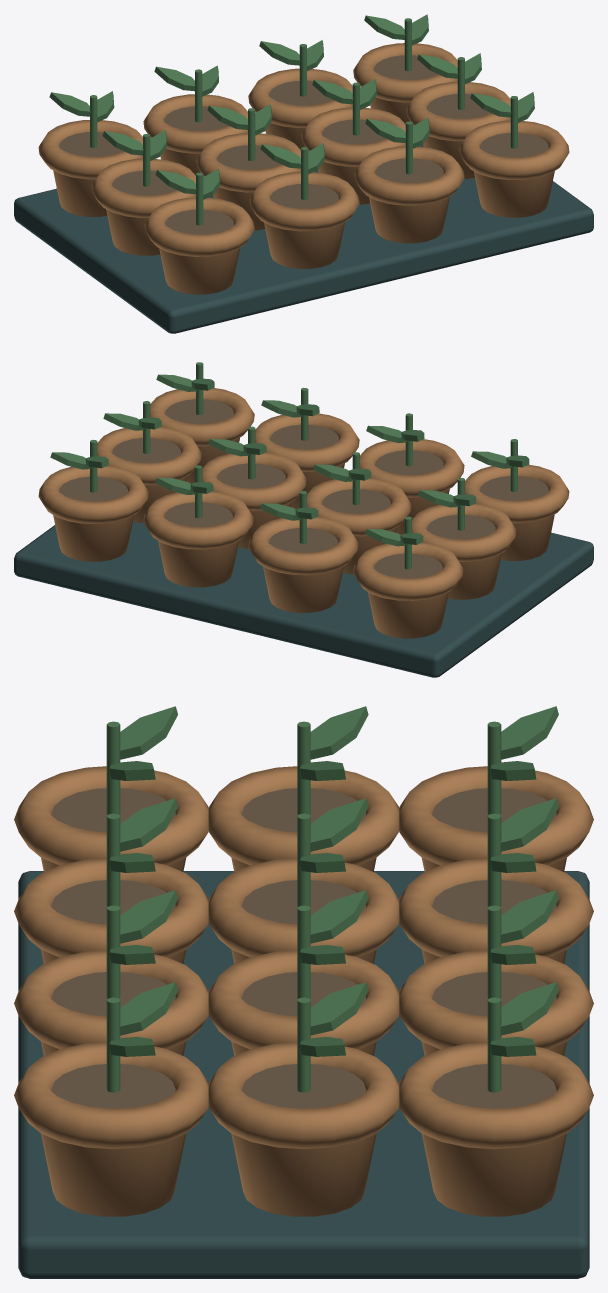
File: almanac-gardens-seedling-tray-833c71a3__22067.glb
3 views of the same model, one above another, from view 1: azimuth 30°, elevation 25°; view 2: azimuth 150°, elevation 25°; view 3: azimuth 270°, elevation 25° (orthographic). The views are drawn at different scales.
Parts seen in each view (by area): view 1: seedling-tray-oak, seedling-tray-iron, seedling-tray-leaf, seedling-tray-soil; view 2: seedling-tray-oak, seedling-tray-iron, seedling-tray-soil, seedling-tray-leaf; view 3: seedling-tray-oak, seedling-tray-iron, seedling-tray-leaf, seedling-tray-soil.
Part boxes in pixels (x1,y1,x2,y2): seedling-tray-oak: [38, 43, 569, 294]; seedling-tray-iron: [14, 144, 593, 333]; seedling-tray-leaf: [49, 14, 534, 225]; seedling-tray-soil: [59, 55, 548, 234]; seedling-tray-oak: [38, 388, 569, 638]; seedling-tray-iron: [14, 522, 593, 677]; seedling-tray-soil: [59, 399, 548, 578]; seedling-tray-leaf: [50, 362, 529, 569]; seedling-tray-oak: [14, 766, 593, 1216]; seedling-tray-iron: [18, 871, 589, 1278]; seedling-tray-leaf: [106, 706, 558, 1092]; seedling-tray-soil: [51, 788, 556, 1108].
Bounding box in the file's own units: 0.65 × 0.19 × 0.4265.
